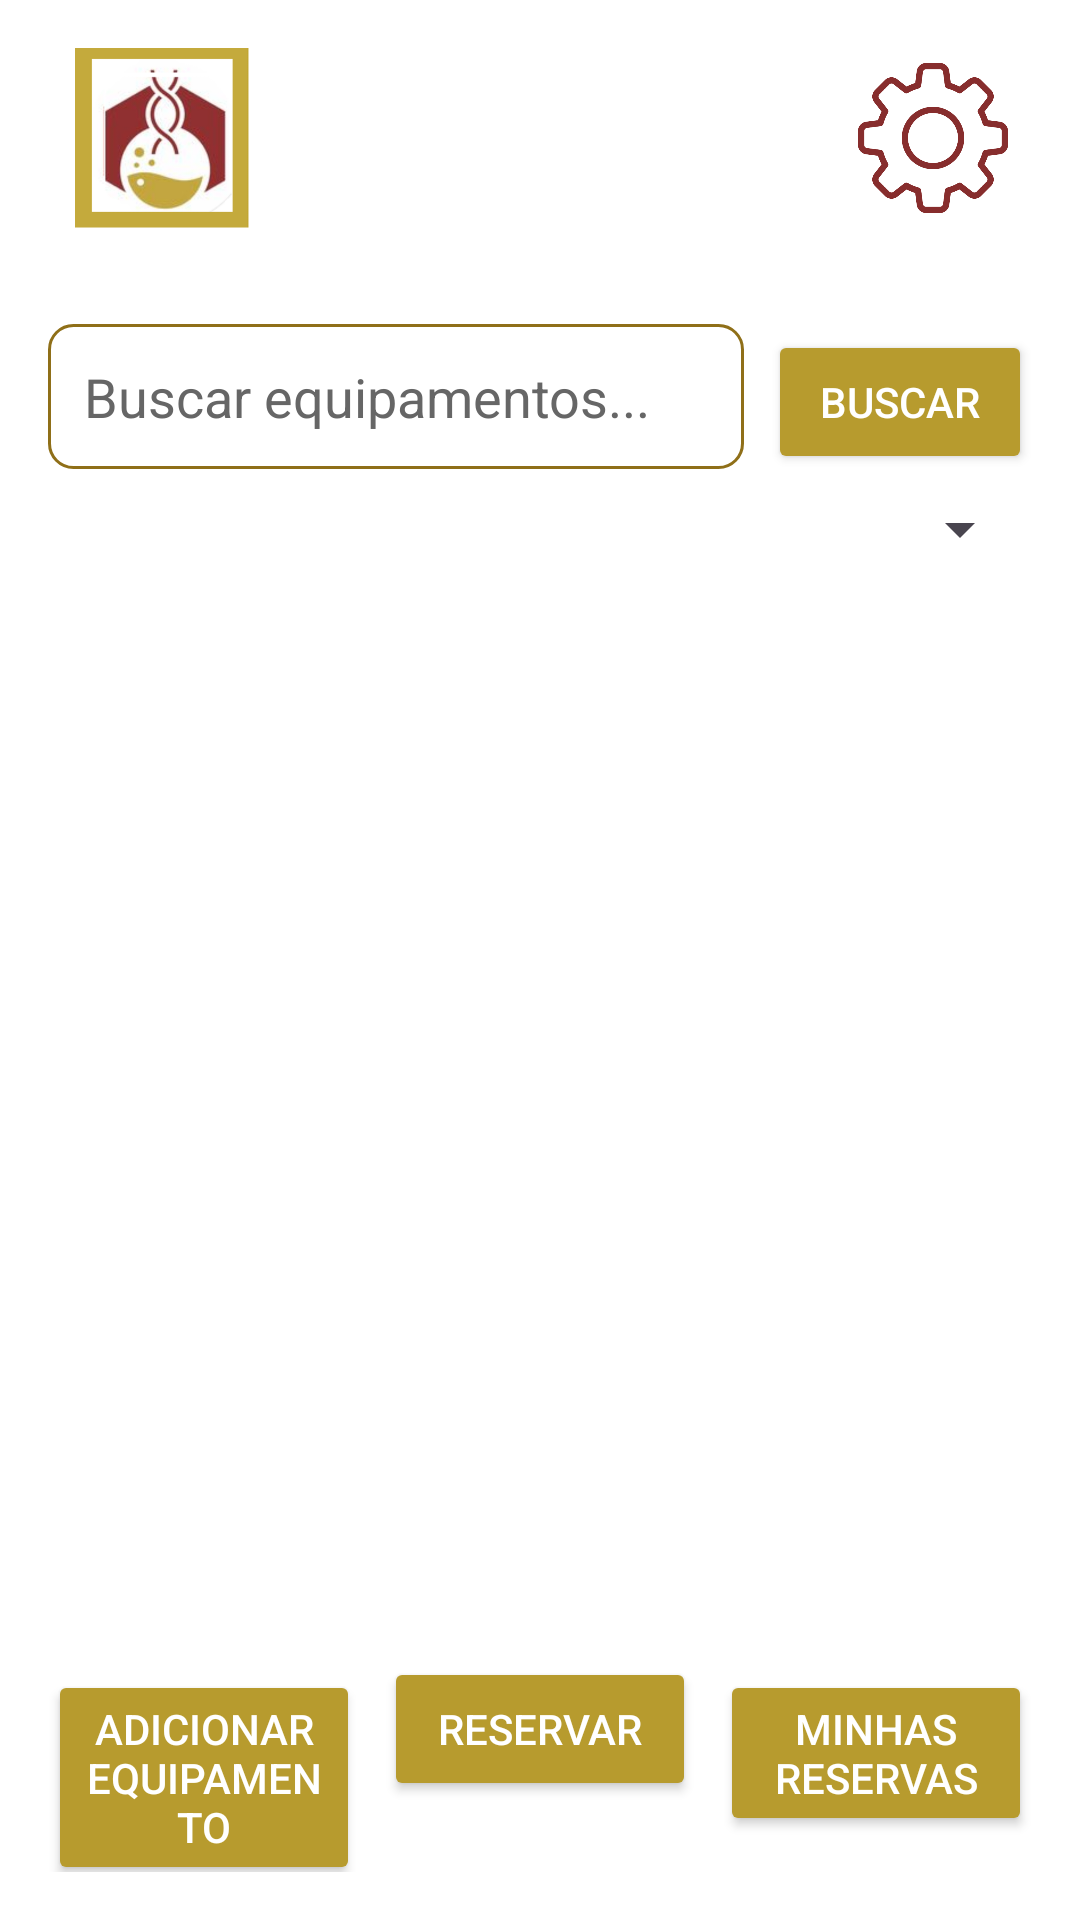

Named icons in this screenshot (1080 x 1920) and their centers, point (x, y):
Configurações: point (933, 138)
